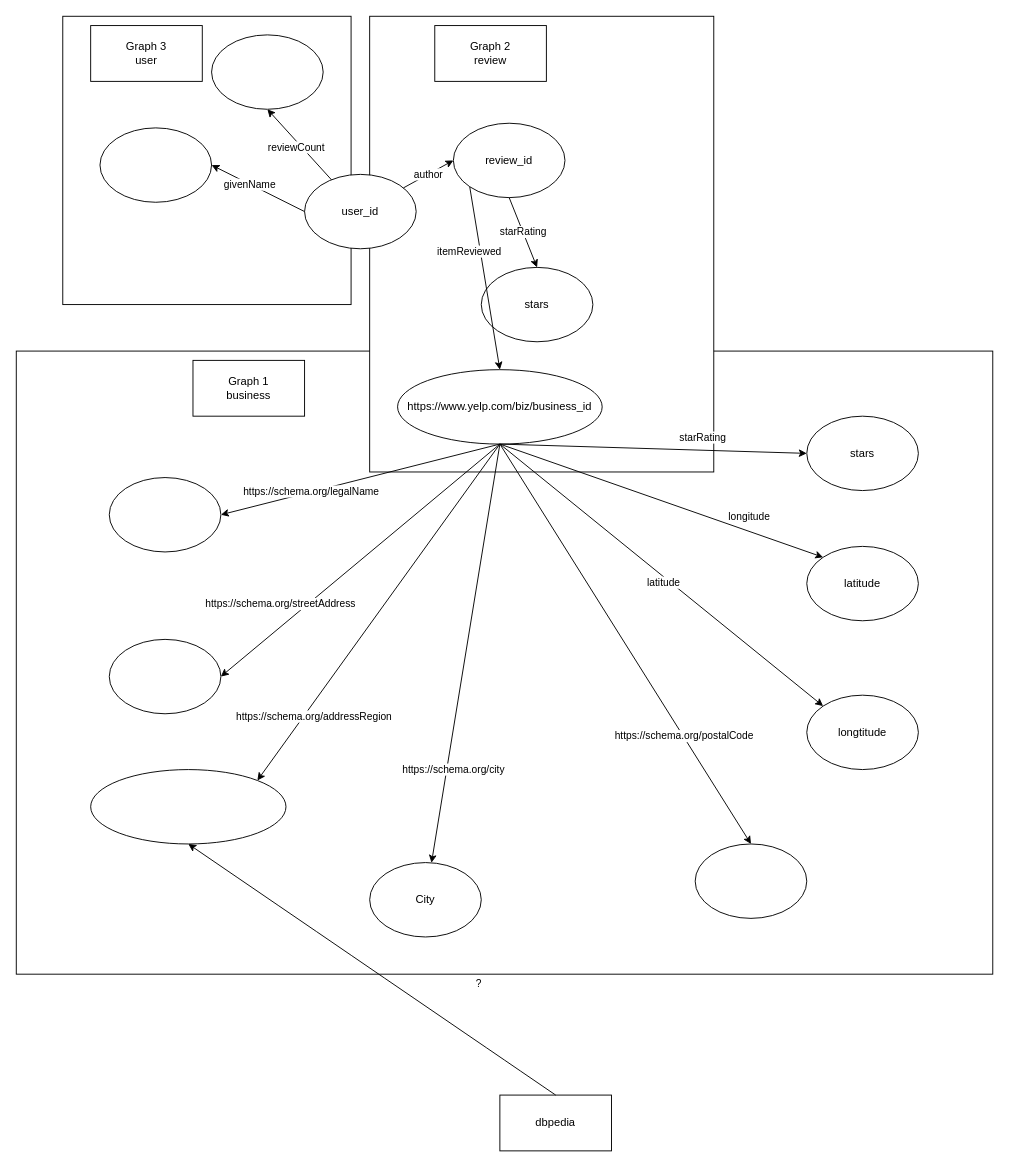
The diagram is 1009 pixels wide and 1167 high, and some of its shapes have lost their labels. The centre of each missing label's shape, as x and y in pixels:
"http://dbpedia.org/resource/state" goes at pixel 188 806.
"litteral:address" goes at pixel 164 676.
"litteral:name" goes at pixel 164 514.
"name" goes at pixel 155 164.
"postal_code" goes at pixel 750 880.
"review count" goes at pixel 267 71.
